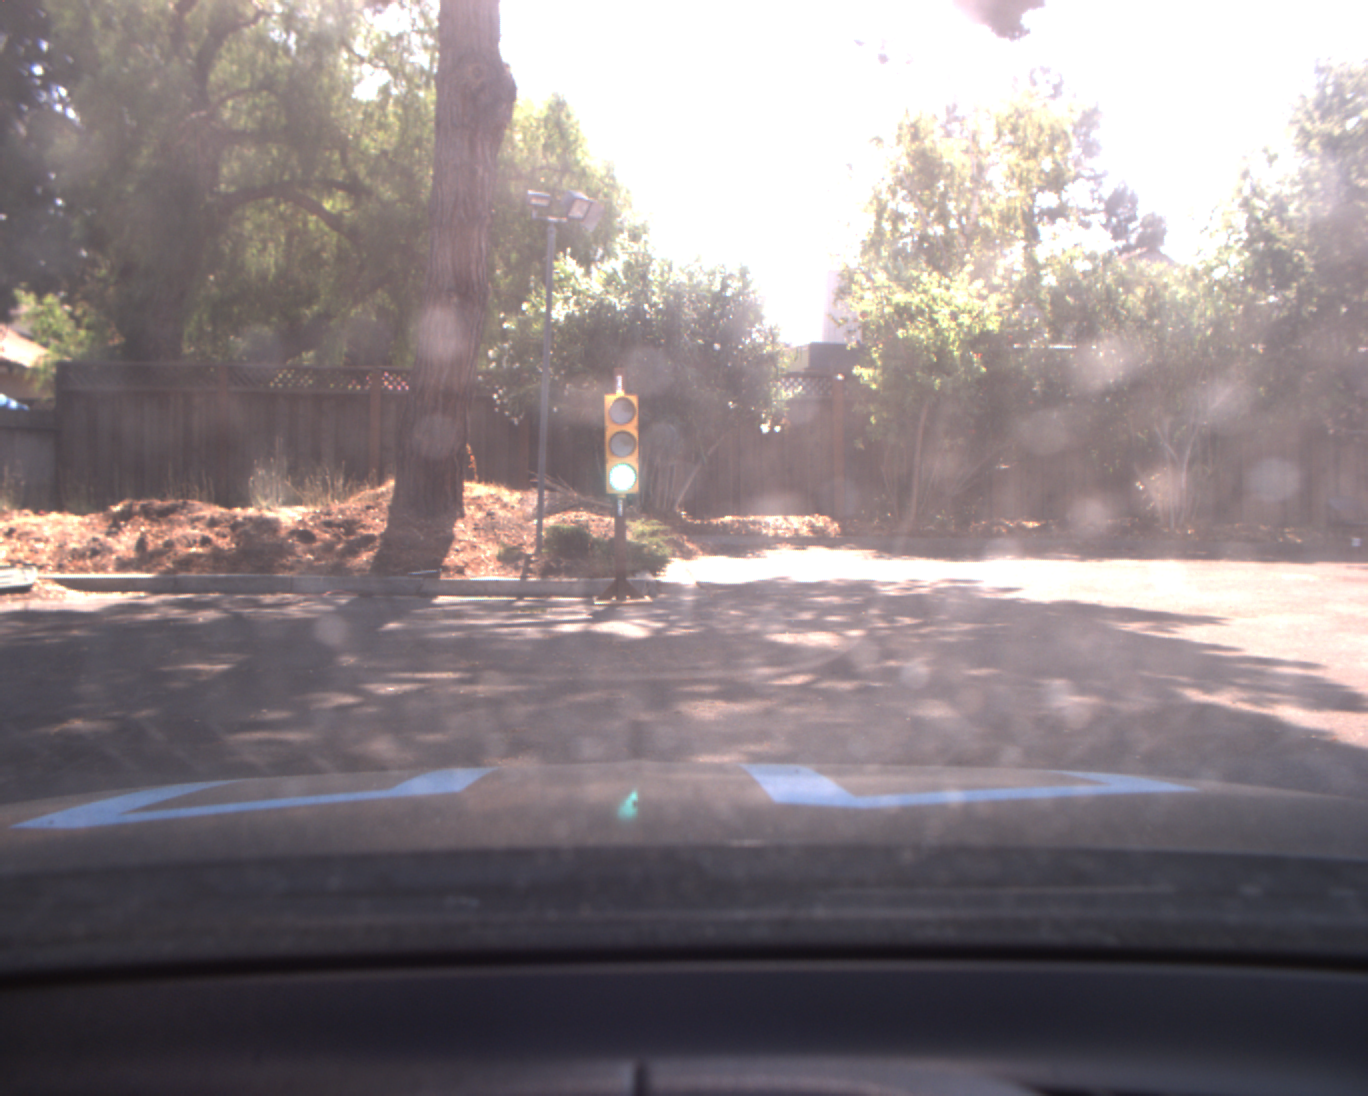green: (600, 389, 644, 499)
